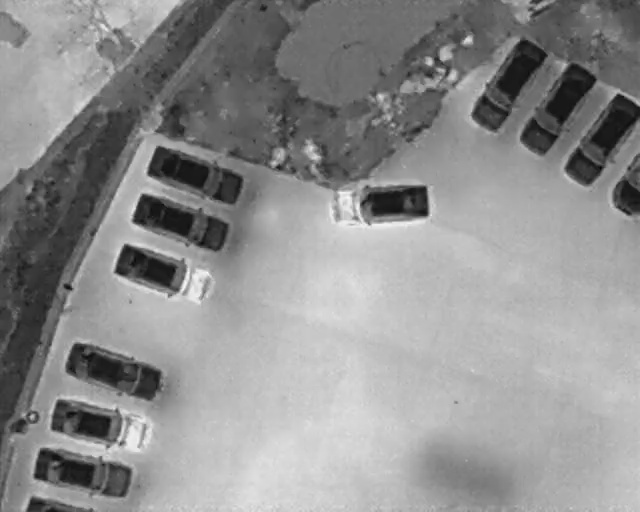Car: (459, 29, 554, 141), (510, 54, 603, 163), (104, 233, 220, 313), (138, 136, 252, 215), (59, 334, 170, 407), (127, 186, 236, 260), (560, 88, 639, 189), (45, 391, 154, 453), (29, 442, 137, 502), (327, 175, 437, 229), (609, 145, 640, 220), (23, 493, 94, 510)
